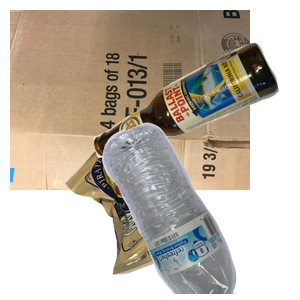cardboard: (10, 10, 250, 190)
glass: (91, 40, 300, 190)
plastic: (100, 120, 300, 300)
trash: (61, 127, 260, 300)
